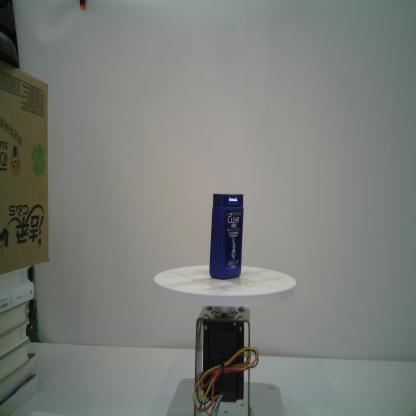Personal Hygiene: (209, 193, 244, 280)
